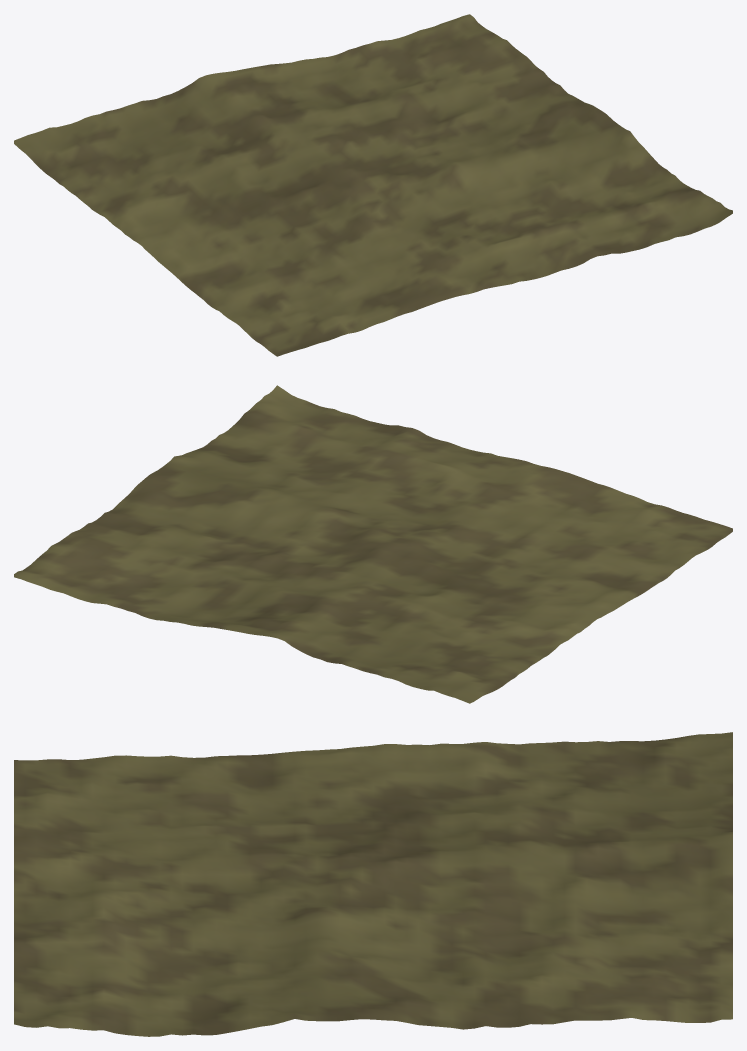
File: land_f_07_04.glb
3 views of the same model, one above another, from view 1: azimuth 30°, elevation 25°; view 2: azimuth 150°, elevation 25°; view 3: azimuth 270°, elevation 25° (orthographic). The views are drawn at different scales.
Visible parts, largest first — view 1: land_f_07_04; view 2: land_f_07_04; view 3: land_f_07_04.
Boxes of the visible parts, left/top/right/bottom form: land_f_07_04: left=14, top=14, right=732, bottom=356; land_f_07_04: left=14, top=385, right=732, bottom=703; land_f_07_04: left=14, top=732, right=732, bottom=1036.
Size of the model in its own units: 3840 by 340 by 3840.
